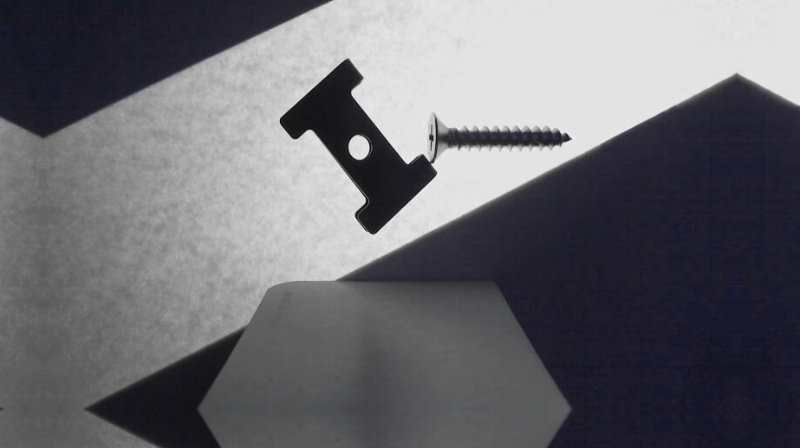O002: (277, 58, 435, 235)
S001: (430, 111, 573, 163)
